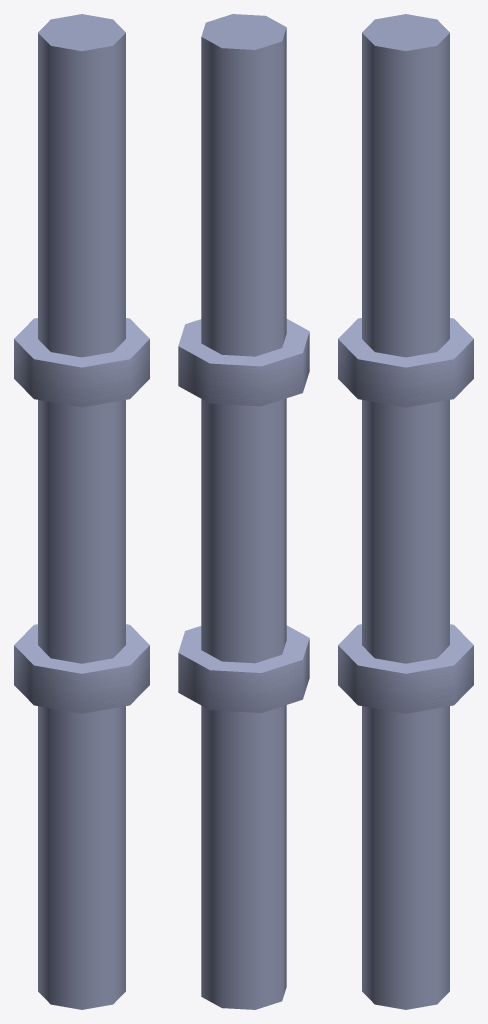
File: gutter-vertical-wall.glb
3 views of the same model, side by side, from view 1: azimuth 90°, elevation 25°; view 2: azimuth 150°, elevation 25°; view 3: azimuth 270°, elevation 25° (orthographic).
Parts seen in each view (by area): view 1: gutter-vertical-wall; view 2: gutter-vertical-wall; view 3: gutter-vertical-wall.
Part boxes in pixels (x1=…): gutter-vertical-wall: x1=14, y1=14, x2=149, y2=1009; gutter-vertical-wall: x1=178, y1=14, x2=309, y2=1009; gutter-vertical-wall: x1=338, y1=14, x2=473, y2=1009.
Bounding box in the file's own units: 0.3082 × 2.4 × 0.3082.
Materials: 1 (1 with a texture image).
